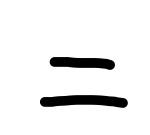eqv: (40, 57, 128, 108)
